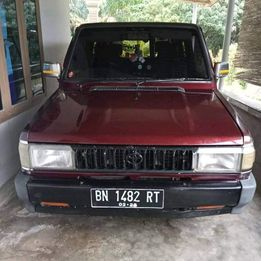plate: (90, 188, 166, 208)
